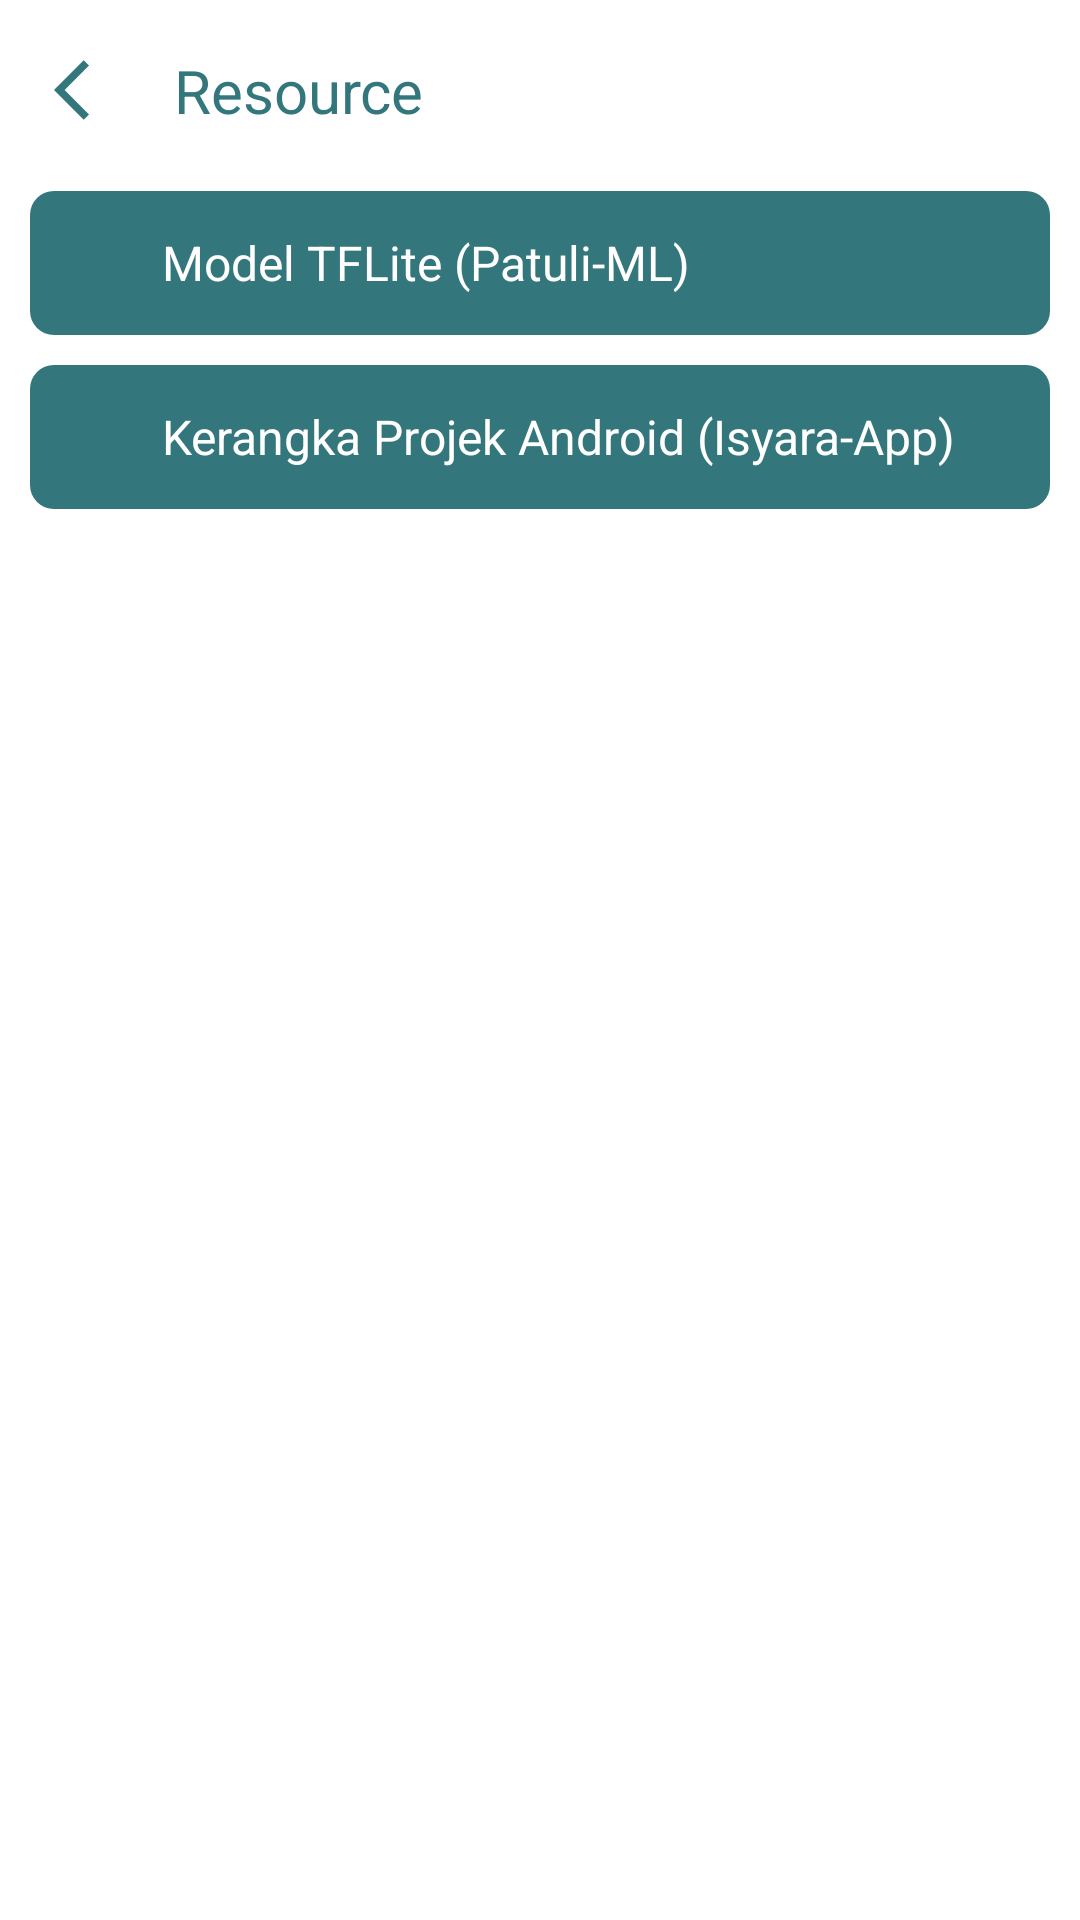

Named icons in this screenshot (1080px x 1920px) and their bounding boxes, (x1, y1, x2, y2):
Kembali: (54, 60, 89, 120)
